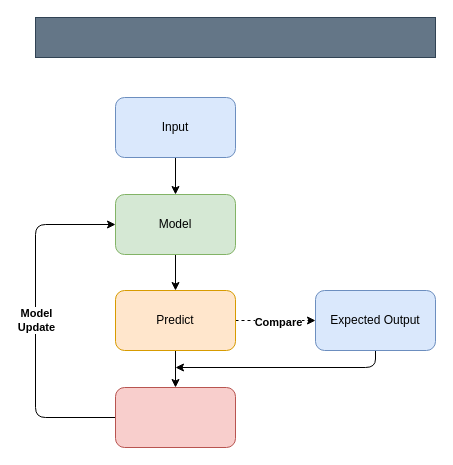
The diagram is 453 pixels wide and 465 high, and some of its shapes have lost their labels. The shapes that lost their labels are listed below. From the top down, each one's box as (x1, y1, x2, y2) in pixels, then its label:
(34, 16, 436, 58): Supervised Learning
(114, 386, 236, 448): Error
